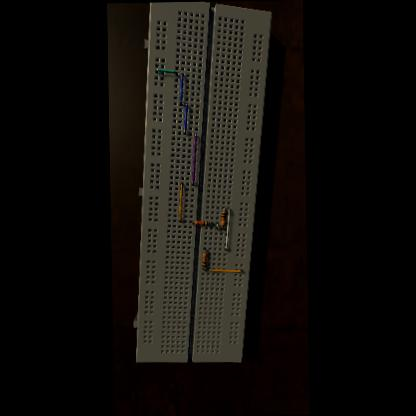breadboard: (127, 0, 277, 362)
resistor: (220, 210, 226, 224), (195, 219, 209, 224), (202, 252, 206, 266)
wire: (191, 132, 197, 184), (224, 206, 231, 249), (178, 182, 184, 220), (208, 266, 242, 271), (156, 67, 177, 74), (180, 71, 184, 104), (184, 102, 188, 133), (222, 206, 224, 210), (191, 219, 194, 221), (204, 246, 205, 252), (209, 221, 212, 223), (216, 222, 217, 228), (222, 225, 223, 227), (204, 266, 204, 268)
